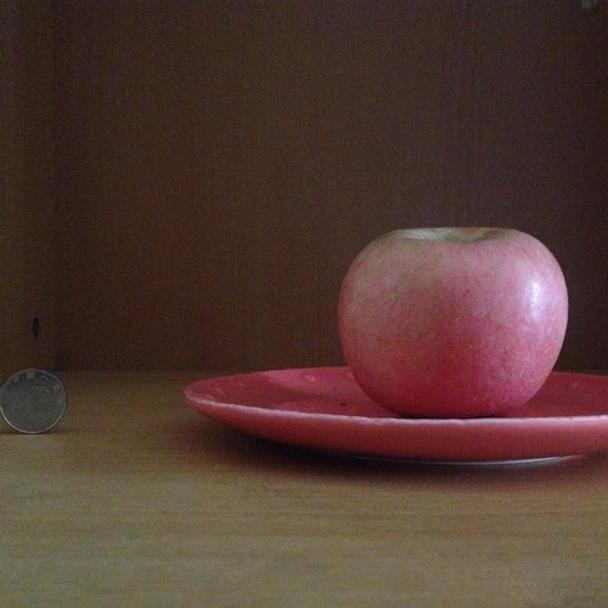apple: (332, 221, 575, 418)
